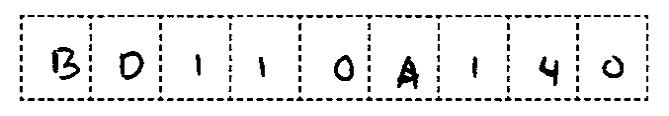0: (327, 50, 365, 88), (593, 52, 630, 86)
1: (180, 45, 214, 84), (243, 48, 279, 83), (459, 52, 489, 82)
4: (531, 49, 569, 90)
A: (389, 50, 427, 94)
B: (45, 43, 84, 85)
D: (113, 43, 150, 85)
